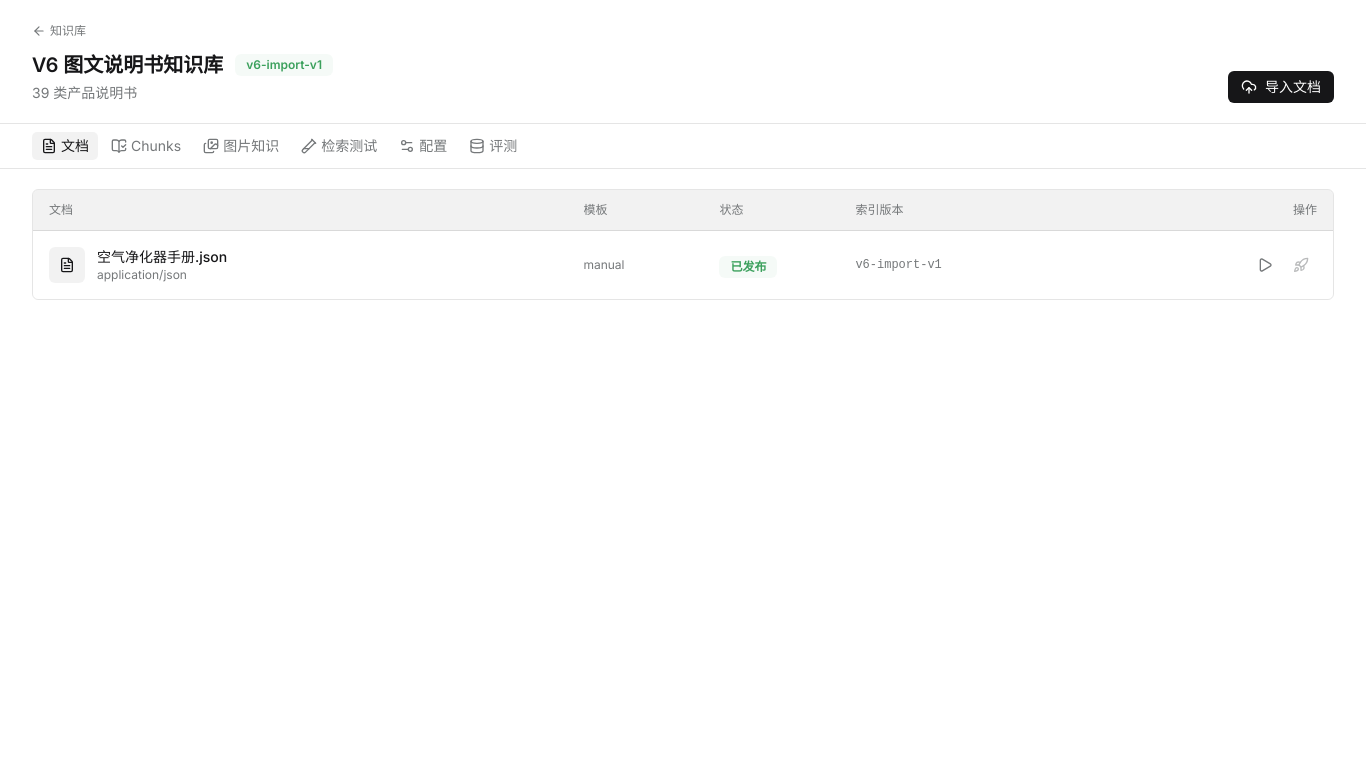
Test: RAGFlow Dataset workspace › widens only the retrieval tab content for the vector workspace
Expected: the text "空气净化器手册.json" is shown, [97, 247, 227, 267]
Click the button "检索测试": (339, 146) [292, 132, 386, 160]
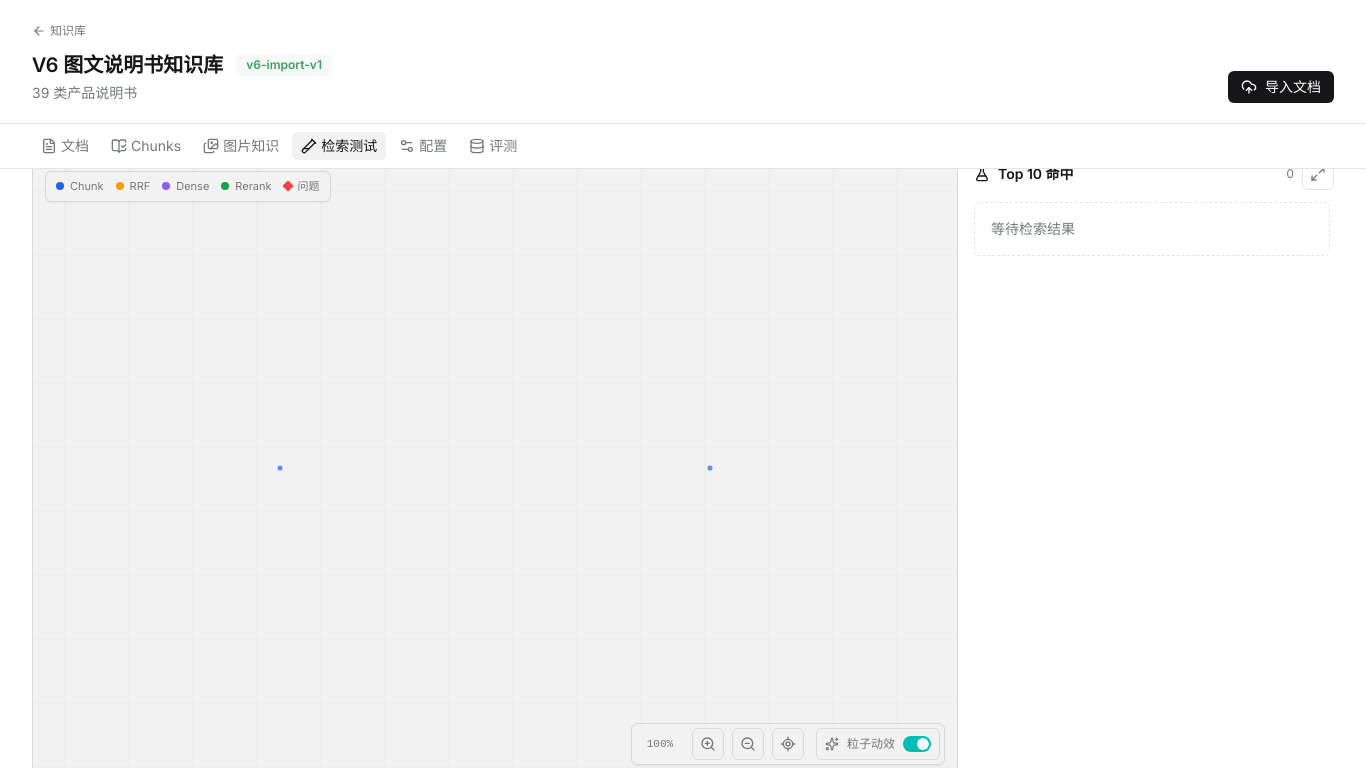
Expected: the element with test id "retrieval-visual-workspace" is shown
